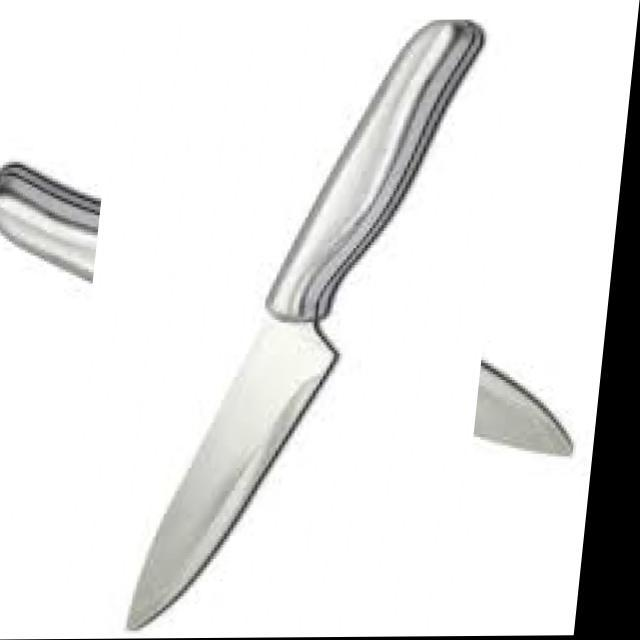knife: (124, 17, 486, 631)
